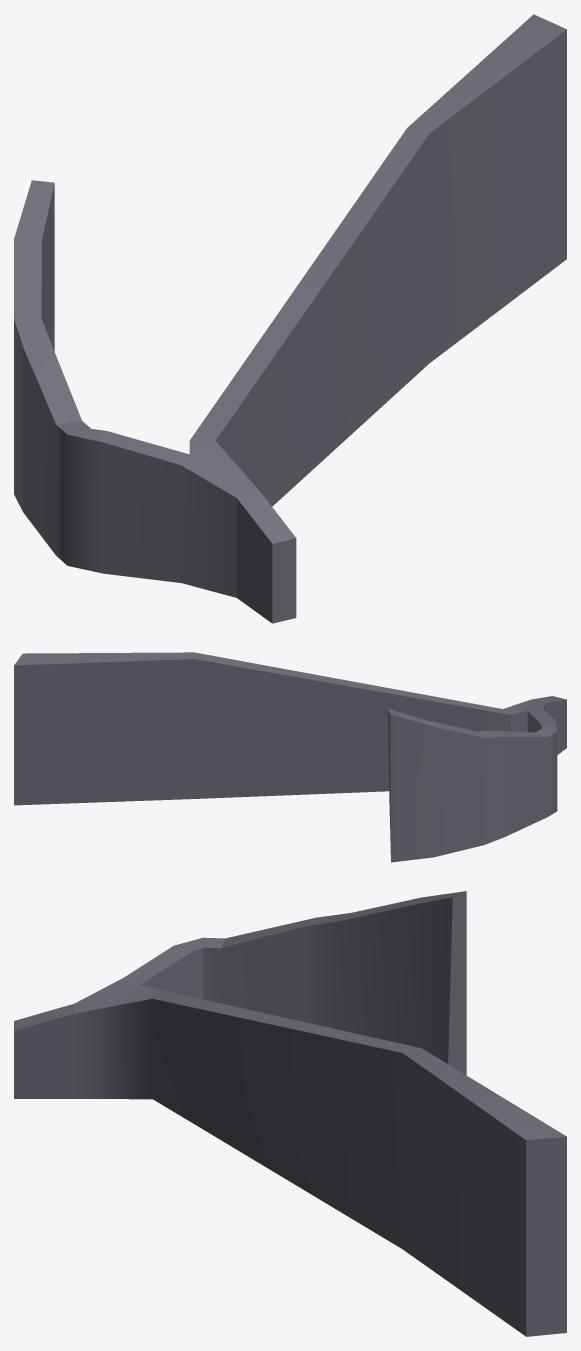
Rendered from road_12.gltf.
3 renders of one model, top to bottom at view 1: azimuth 30°, elevation 25°; view 2: azimuth 150°, elevation 25°; view 3: azimuth 270°, elevation 25°, orthographic. The views are drawn at different scales.
Visible parts, largest first — view 1: road; view 2: road; view 3: road.
Part boxes in pixels (x1,y1,x2,y2): road: [14, 14, 566, 623]; road: [14, 652, 566, 862]; road: [14, 891, 566, 1336].
Bounding box in the file's own units: 22.12 × 7.48 × 18.01.
1 material, 1 textured.
